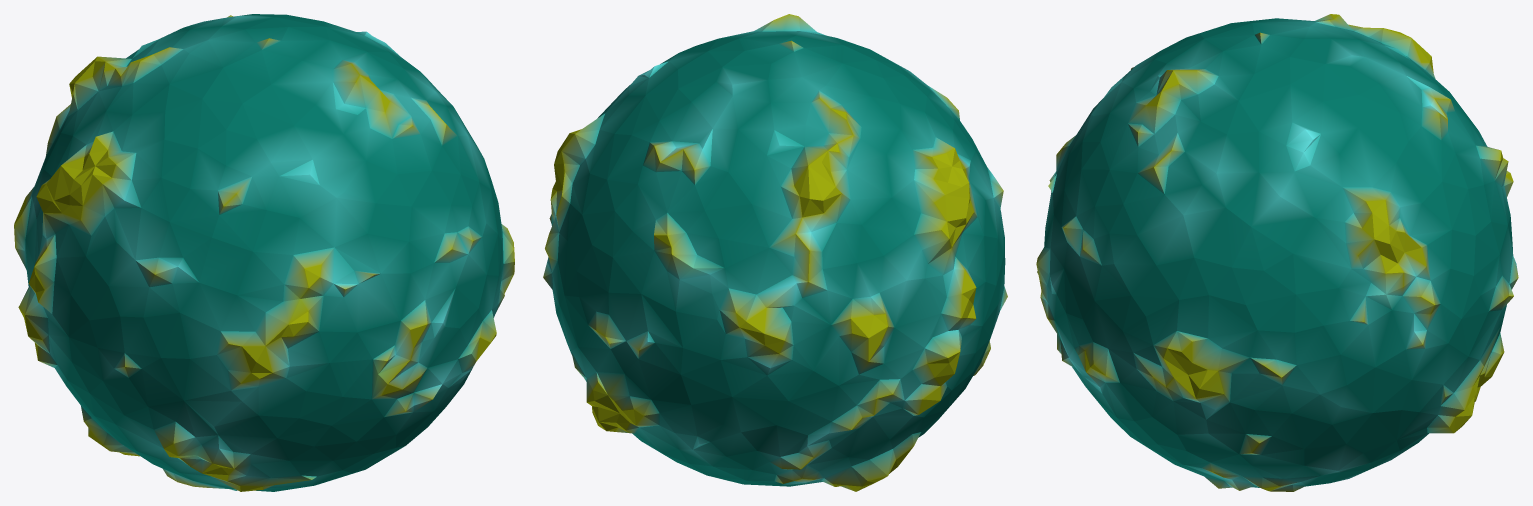
The model's file is planet_99.fbx.
3 renders of one model, left to right at view 1: azimuth 30°, elevation 25°; view 2: azimuth 150°, elevation 25°; view 3: azimuth 270°, elevation 25°, orthographic. The views are drawn at different scales.
Parts seen in each view (by area): view 1: file1; view 2: file1; view 3: file1.
Boxes of the visible parts, <box> form: file1: <box>14,14,514,491</box>; file1: <box>543,14,1007,491</box>; file1: <box>1036,14,1518,491</box>.
Bounding box in the file's own units: 2.09 × 2.06 × 2.05.
